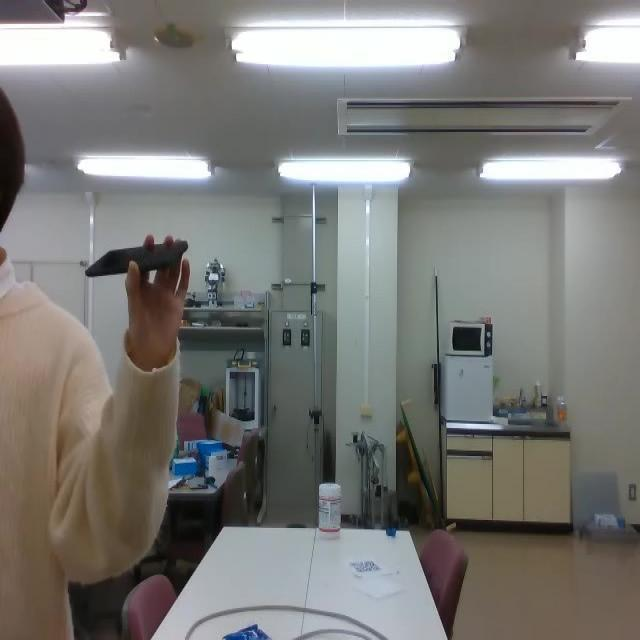Phone: (84, 238, 190, 278)
